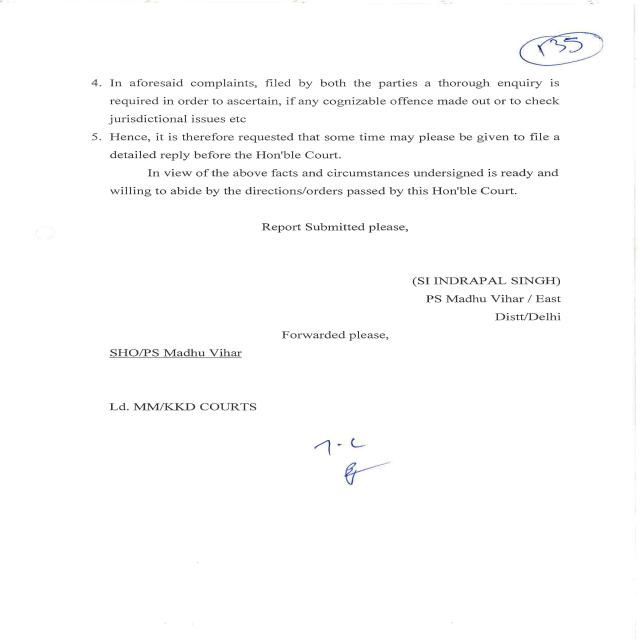page-number: (395, 1, 640, 76)
